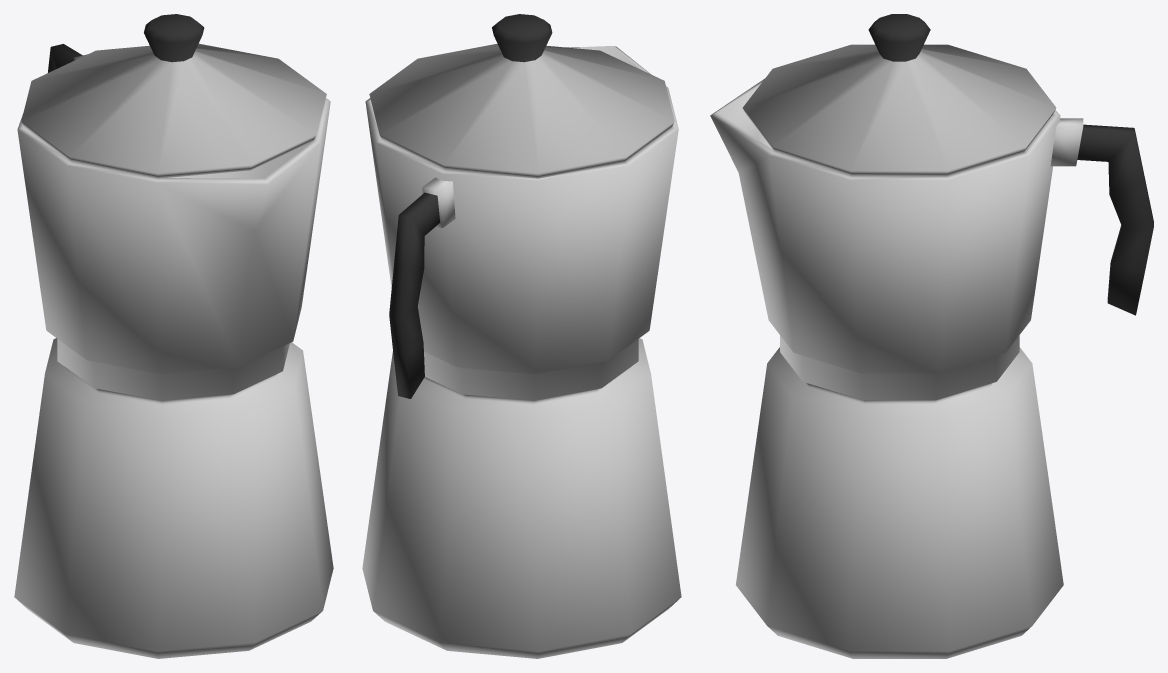
Rendered from CoffeeMaker.fbx.
3 renders of one model, left to right at view 1: azimuth 30°, elevation 25°; view 2: azimuth 150°, elevation 25°; view 3: azimuth 270°, elevation 25°, orthographic.
Parts seen in each view (by area): view 1: CoffeeMaker; view 2: CoffeeMaker; view 3: CoffeeMaker.
Part boxes in pixels (bbox=[...]): CoffeeMaker: bbox=[14, 14, 333, 658]; CoffeeMaker: bbox=[362, 14, 681, 658]; CoffeeMaker: bbox=[710, 14, 1153, 658].
Bounding box in the file's own units: 11.61 × 23.6 × 16.52.
